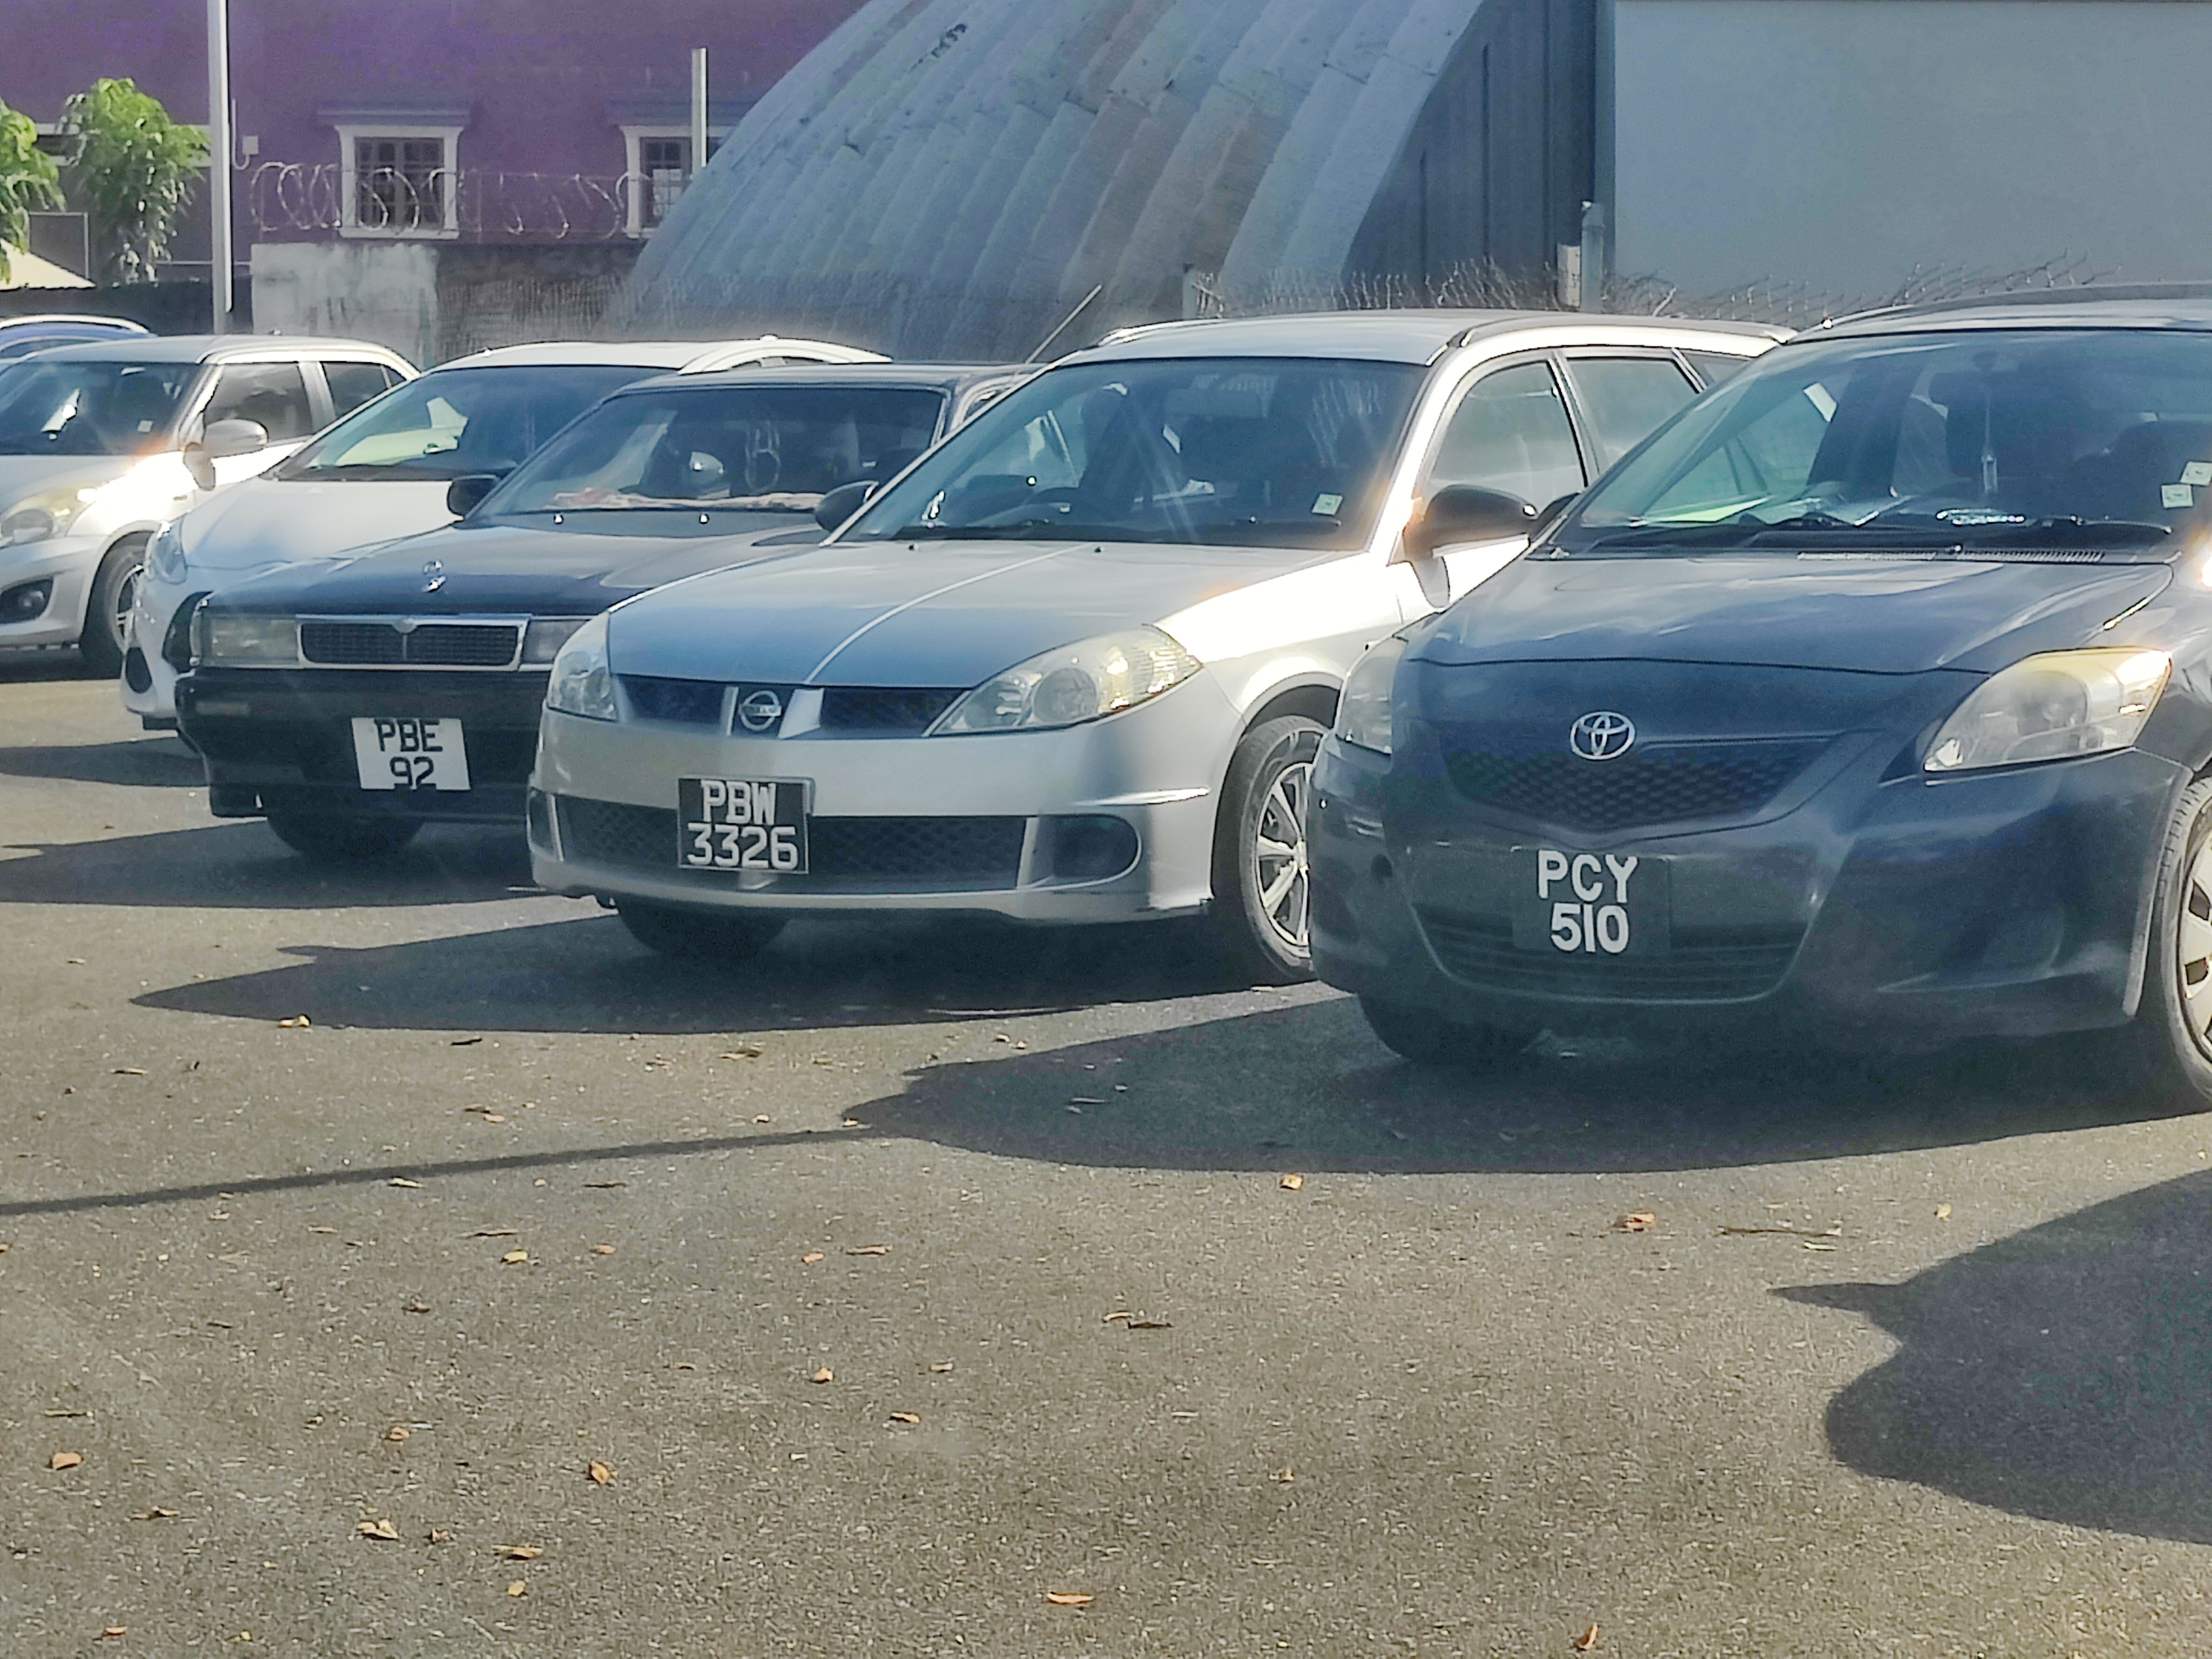License-Plate: (1515, 845, 1668, 952), (682, 775, 806, 868), (349, 718, 468, 794)
